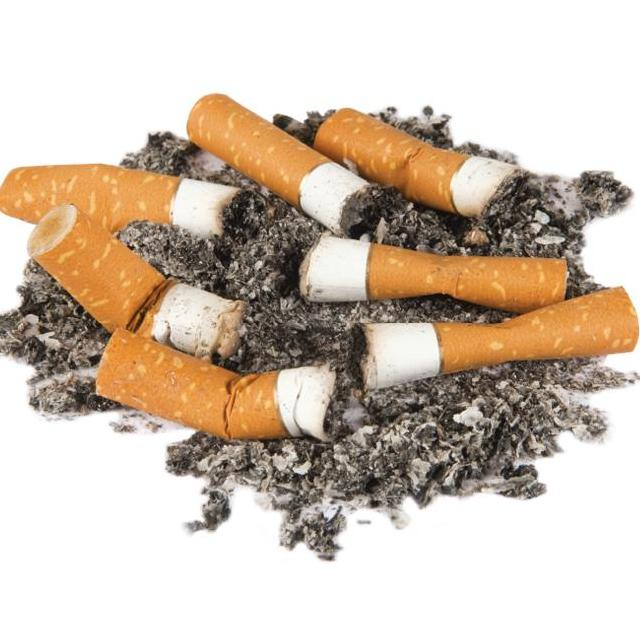Cigarette Butt: (25, 202, 258, 369), (343, 283, 640, 394), (94, 325, 345, 447), (183, 92, 388, 239), (313, 107, 540, 232), (0, 162, 265, 244), (294, 235, 569, 312)
